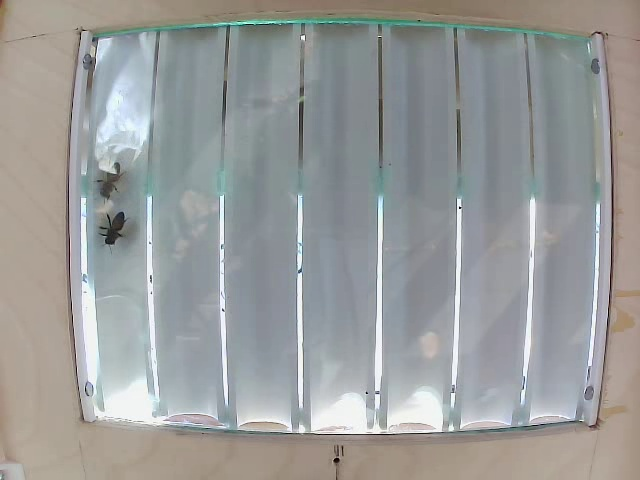bee: (101, 202, 140, 244), (96, 157, 123, 202)
